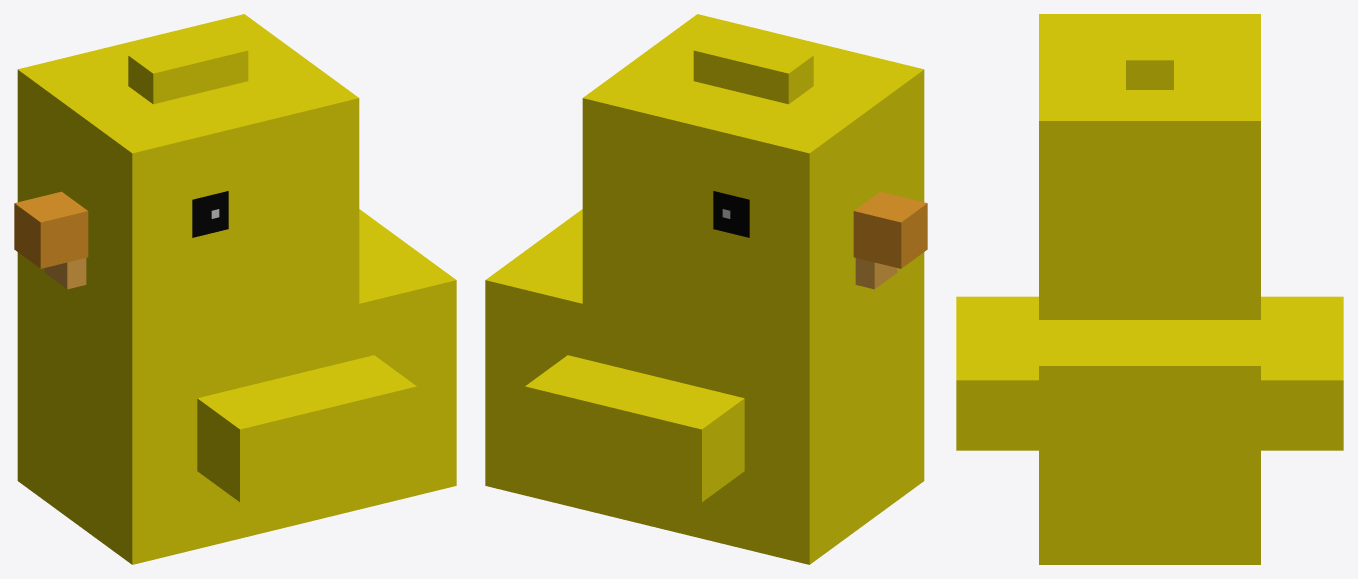
The model's file is duck.dae.
3 renders of one model, left to right at view 1: azimuth 30°, elevation 25°; view 2: azimuth 150°, elevation 25°; view 3: azimuth 270°, elevation 25°, orthographic. The views are drawn at different scales.
Visible parts, largest first — view 1: Cube; view 2: Cube; view 3: Cube.
Boxes of the visible parts, x1=… form: Cube: x1=14, y1=14, x2=456, y2=564; Cube: x1=485, y1=14, x2=927, y2=564; Cube: x1=956, y1=14, x2=1343, y2=564.
Bounding box in the file's own units: 1.89 × 1.76 × 2.15.
